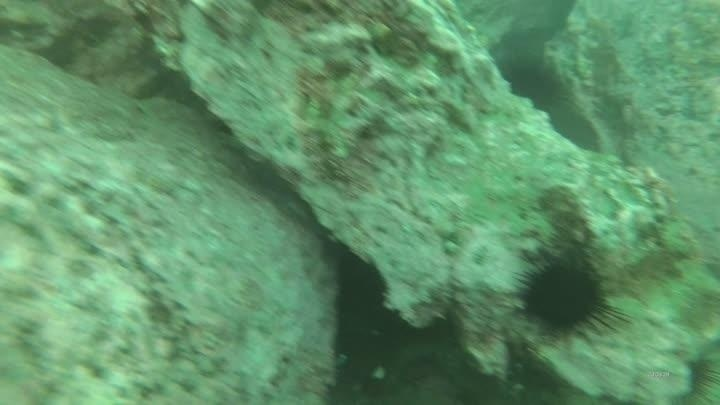echinus: (511, 249, 622, 342), (499, 54, 565, 114)
